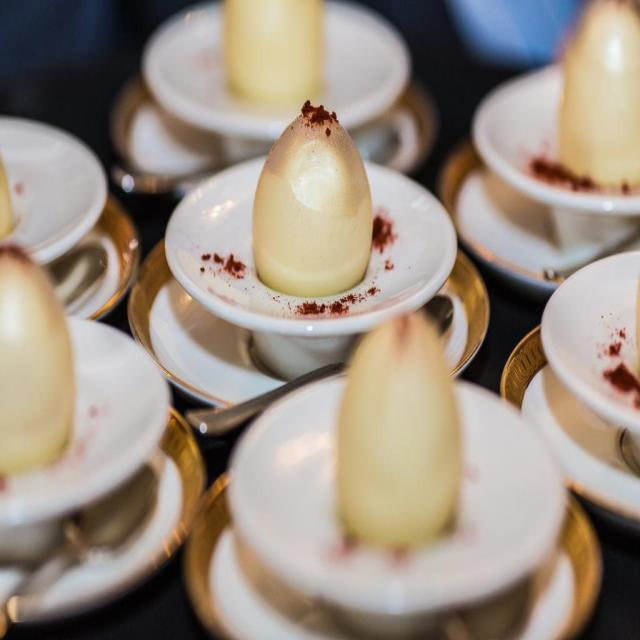Egg: (337, 311, 460, 551), (252, 110, 377, 294), (0, 240, 75, 470), (557, 0, 640, 186)
